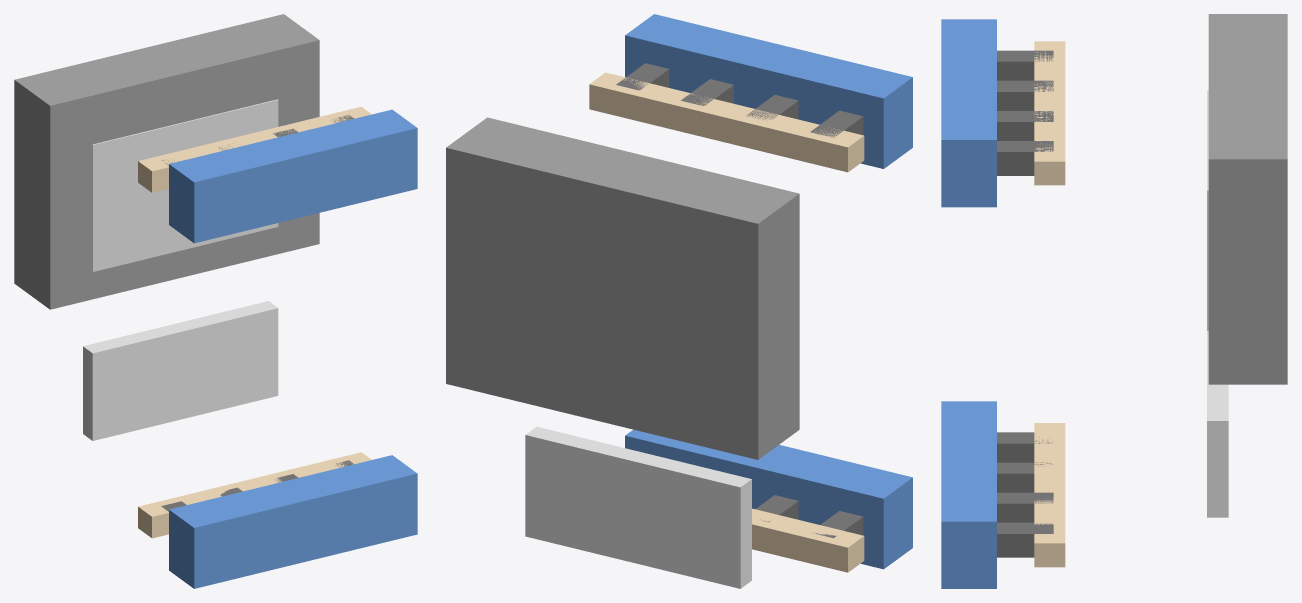
Rendered from sky130_ef_sc_hd__fill_4.gds.gltf.
3 views of the same model, side by side, from view 1: azimuth 30°, elevation 25°; view 2: azimuth 150°, elevation 25°; view 3: azimuth 270°, elevation 25° (orthographic). The views are drawn at different scales.
Parts seen in each view (by area): view 1: sky130_ef_sc_hd__fill_4_nwell, sky130_ef_sc_hd__fill_4_met1, sky130_ef_sc_hd__fill_4_diff, sky130_ef_sc_hd__fill_4_li1, sky130_ef_sc_hd__fill_4_mcon; view 2: sky130_ef_sc_hd__fill_4_nwell, sky130_ef_sc_hd__fill_4_met1, sky130_ef_sc_hd__fill_4_diff, sky130_ef_sc_hd__fill_4_li1, sky130_ef_sc_hd__fill_4_mcon; view 3: sky130_ef_sc_hd__fill_4_nwell, sky130_ef_sc_hd__fill_4_met1, sky130_ef_sc_hd__fill_4_mcon, sky130_ef_sc_hd__fill_4_li1, sky130_ef_sc_hd__fill_4_diff.
Part boxes in pixels (left/top/right/bottom): sky130_ef_sc_hd__fill_4_nwell: left=14, top=14, right=319, bottom=309; sky130_ef_sc_hd__fill_4_met1: left=169, top=109, right=417, bottom=588; sky130_ef_sc_hd__fill_4_diff: left=83, top=99, right=278, bottom=440; sky130_ef_sc_hd__fill_4_li1: left=138, top=106, right=371, bottom=538; sky130_ef_sc_hd__fill_4_mcon: left=161, top=115, right=353, bottom=511; sky130_ef_sc_hd__fill_4_nwell: left=446, top=117, right=799, bottom=459; sky130_ef_sc_hd__fill_4_met1: left=625, top=14, right=912, bottom=569; sky130_ef_sc_hd__fill_4_diff: left=525, top=426, right=751, bottom=588; sky130_ef_sc_hd__fill_4_li1: left=589, top=72, right=864, bottom=572; sky130_ef_sc_hd__fill_4_mcon: left=616, top=63, right=863, bottom=538; sky130_ef_sc_hd__fill_4_nwell: left=1208, top=14, right=1287, bottom=384; sky130_ef_sc_hd__fill_4_met1: left=941, top=19, right=996, bottom=588; sky130_ef_sc_hd__fill_4_mcon: left=997, top=50, right=1053, bottom=557; sky130_ef_sc_hd__fill_4_li1: left=1034, top=41, right=1065, bottom=567; sky130_ef_sc_hd__fill_4_diff: left=1207, top=90, right=1228, bottom=517.
Bounding box in the file's own units: 2.22 × 3.2 × 2.24.
